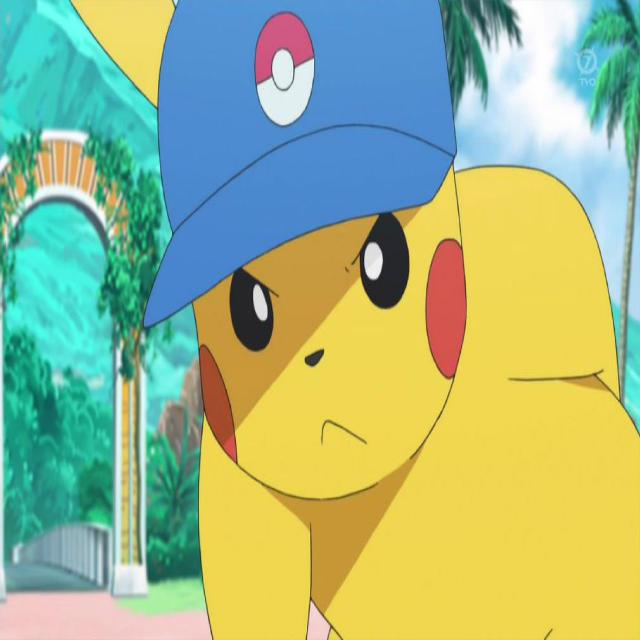pikachu: (191, 165, 640, 638)
